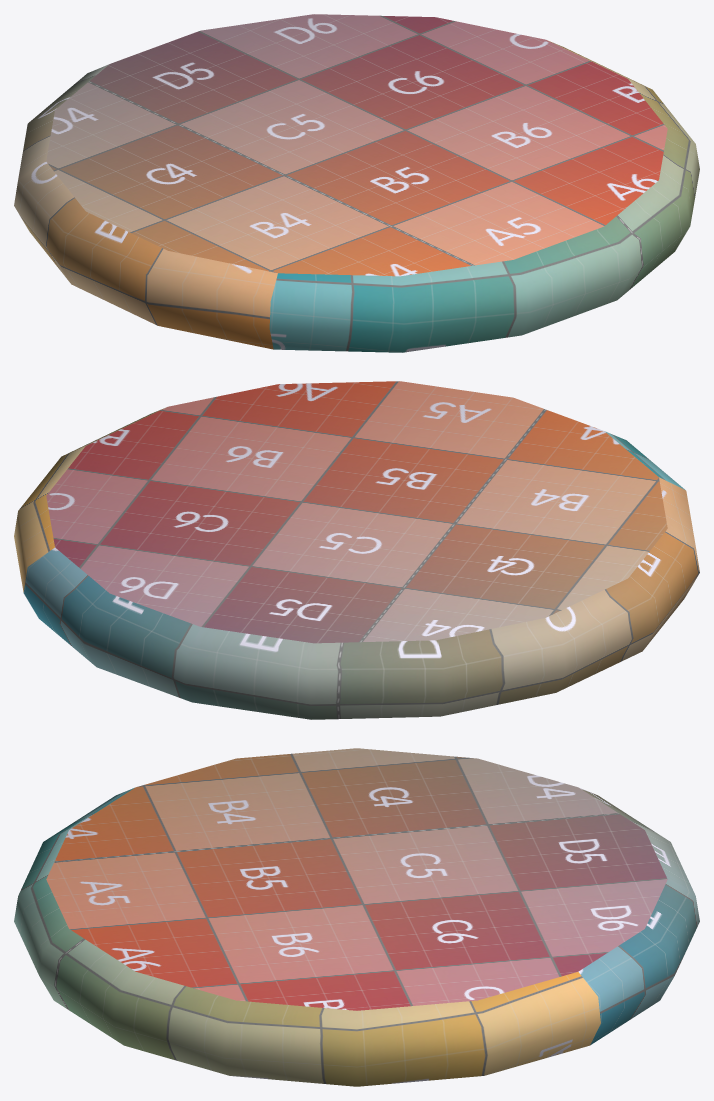
Rendered from LargeLid_LOW.fbx.
3 renders of one model, top to bottom at view 1: azimuth 30°, elevation 25°; view 2: azimuth 150°, elevation 25°; view 3: azimuth 270°, elevation 25°, orthographic.
Parts seen in each view (by area): view 1: LargeLid_LOW.001; view 2: LargeLid_LOW.001; view 3: LargeLid_LOW.001.
Boxes of the visible parts, x1,y1,x2,y2 form: LargeLid_LOW.001: (14, 14, 699, 352); LargeLid_LOW.001: (14, 381, 699, 719); LargeLid_LOW.001: (14, 748, 699, 1086).
Size of the model in its own units: 0.4583 by 0.0508 by 0.4583.
1 material, 1 textured.
